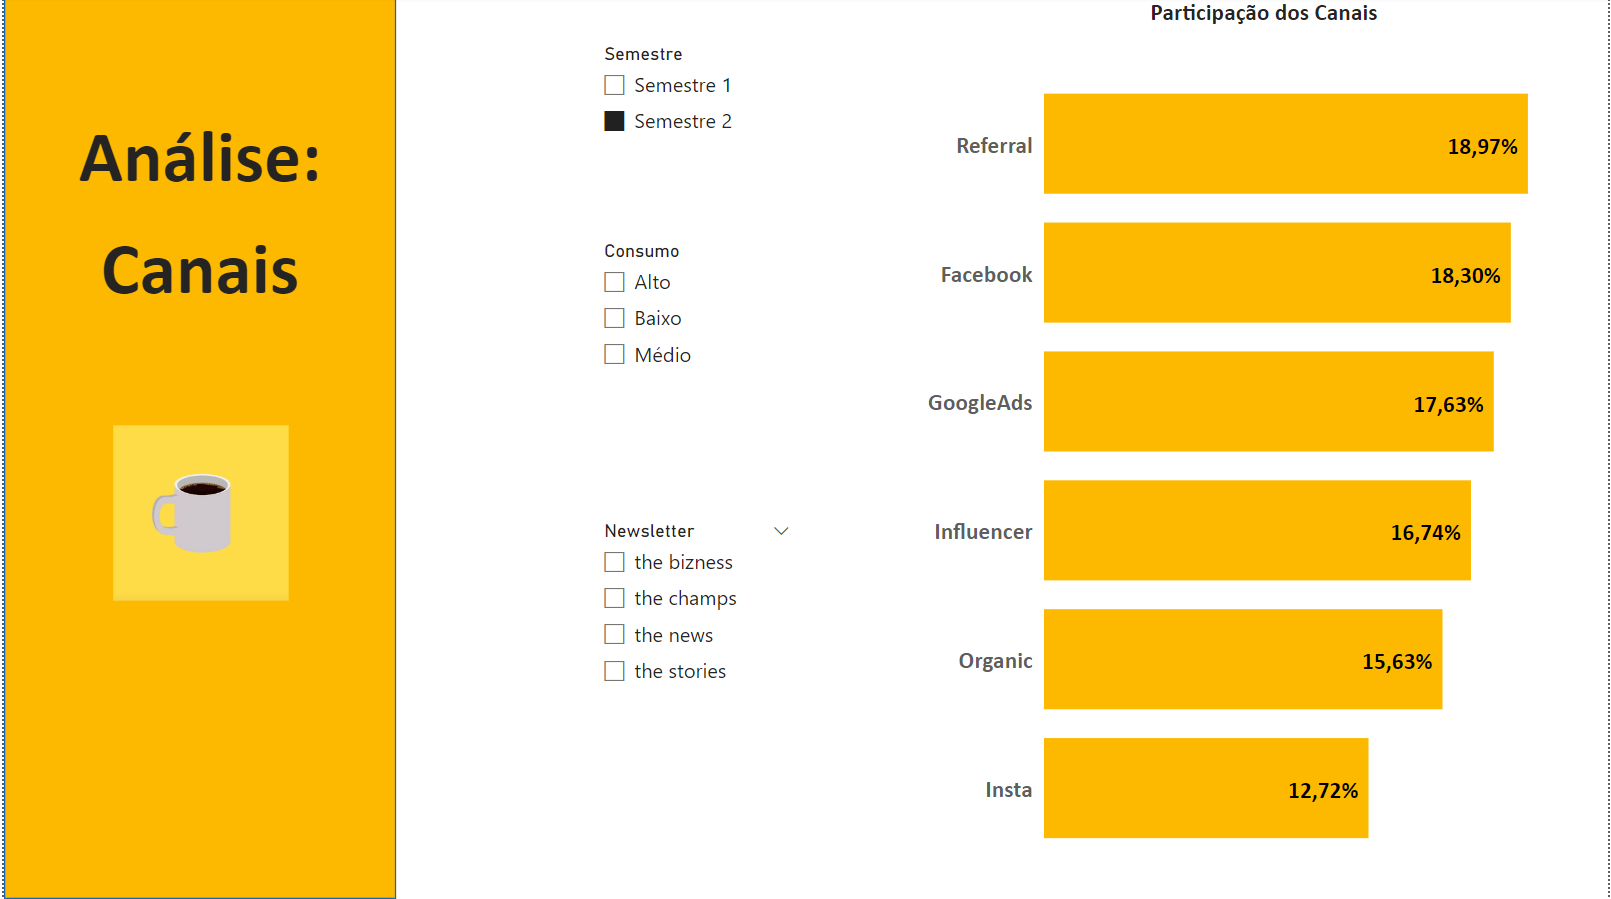

The dashboard page shown, as its layout file describes it:
{"tool":"powerbi","page":{"name":"Canais","canvas":[1280,720],"ordinal":0},"visuals":[{"type":"clusteredBarChart","title":"Participação dos Canais","fields":{"Category":["dados_limpos.entryChannel"],"Y":["CountNonNull(dados_limpos.codigo)"]},"box":[731,0,549.3,720],"z":0},{"type":"slicer","title":"Coversões por Newsletter por Canal","fields":{"Values":["dados_limpos.Newsletter"]},"box":[466.5,412.4,173.2,150.4],"z":1000},{"type":"slicer","fields":{"Values":["dados_limpos.Semestre"]},"box":[466.5,32.1,152.1,108.2],"z":2000},{"type":"slicer","fields":{"Values":["dados_limpos.Consumo"]},"box":[466.5,189.3,173.2,147],"z":3000},{"type":"shape","box":[0,0,312.7,720],"z":3500},{"type":"textbox","box":[0,86.3,313.1,206.1],"z":4000},{"type":"card","title":"Leitores","fields":{"Values":["CountNonNull(dados_limpos.codigo)"]},"box":[0,340.7,313.1,143.2],"z":6000},{"type":"image","box":[81.1,487.6,150.4,206.2],"z":6001}]}

Visuals, with their boxes in screenshot pixels (x1, y1, x2, y2), scaled from the page's 1280x720 canvas onto the 1611x899 screenshot:
"Participação dos Canais" clusteredBarChart: detection(920, 0, 1610, 898)
"Coversões por Newsletter por Canal" slicer: detection(587, 515, 805, 703)
slicer - dados_limpos.Semestre: detection(587, 40, 779, 175)
slicer - dados_limpos.Consumo: detection(587, 236, 805, 420)
shape: detection(0, 0, 394, 898)
textbox: detection(0, 108, 394, 365)
"Leitores" card: detection(0, 425, 394, 604)
image: detection(102, 609, 291, 866)
